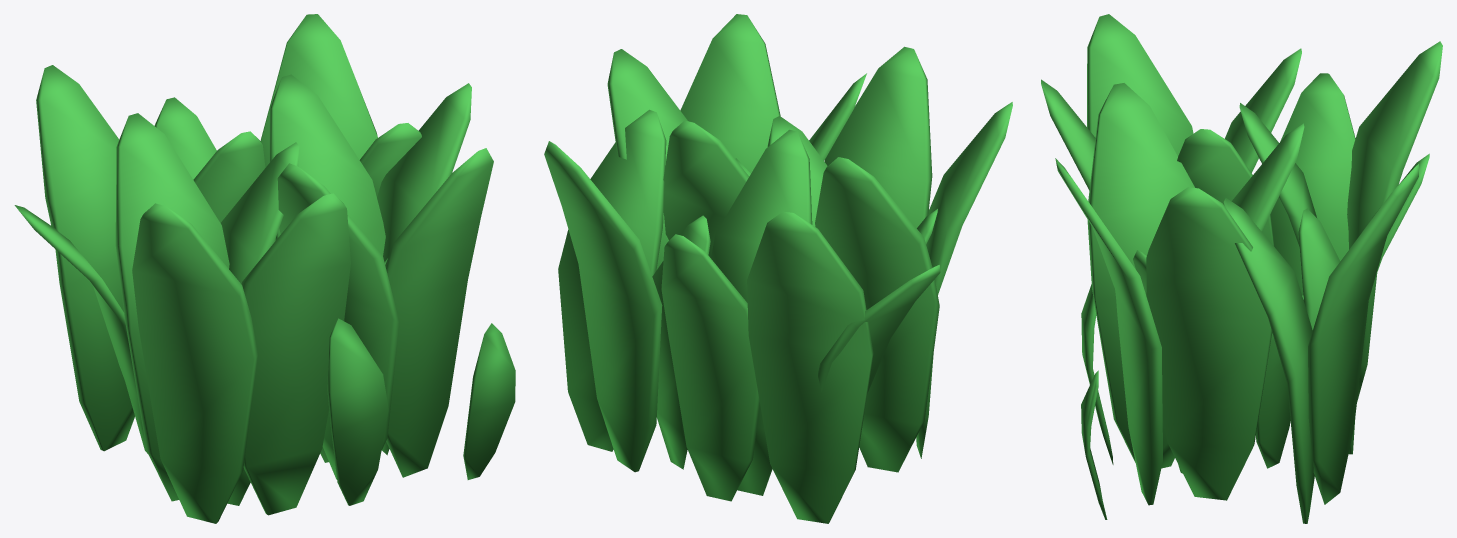
The model's file is Grass_P.fbx.
3 renders of one model, left to right at view 1: azimuth 30°, elevation 25°; view 2: azimuth 150°, elevation 25°; view 3: azimuth 270°, elevation 25°, orthographic.
Parts seen in each view (by area): view 1: Grass_P; view 2: Grass_P; view 3: Grass_P.
Boxes of the visible parts, box(x1,y1,x2,y2) form: Grass_P: box(14, 14, 515, 523); Grass_P: box(544, 14, 1012, 523); Grass_P: box(1041, 14, 1442, 523).
Bounding box in the file's own units: 174 × 147 × 153.
